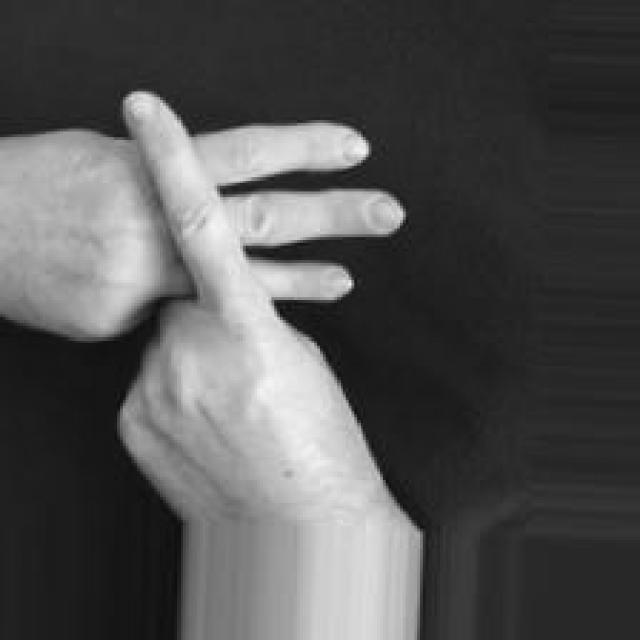E: (2, 81, 410, 524)
